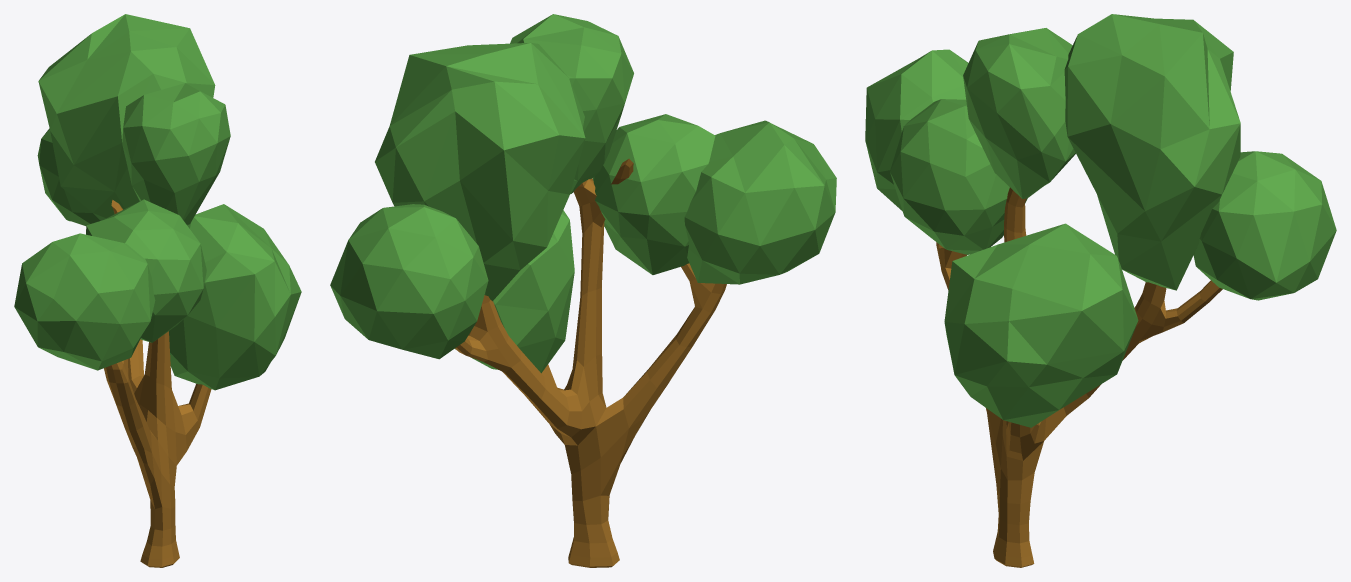
The model's file is result.gltf.
3 views of the same model, side by side, from view 1: azimuth 30°, elevation 25°; view 2: azimuth 150°, elevation 25°; view 3: azimuth 270°, elevation 25° (orthographic). The views are drawn at different scales.
Visible parts, largest first — view 1: Leaves, Tree_3; view 2: Leaves, Tree_3; view 3: Leaves, Tree_3.
Part boxes in pixels (bbox=[...]): Leaves: bbox=[14, 14, 301, 390]; Tree_3: bbox=[104, 200, 211, 567]; Leaves: bbox=[330, 14, 836, 373]; Tree_3: bbox=[455, 158, 726, 567]; Leaves: bbox=[865, 14, 1336, 427]; Tree_3: bbox=[936, 187, 1222, 567].
Bounding box in the file's own units: 752 × 1116 × 864.
